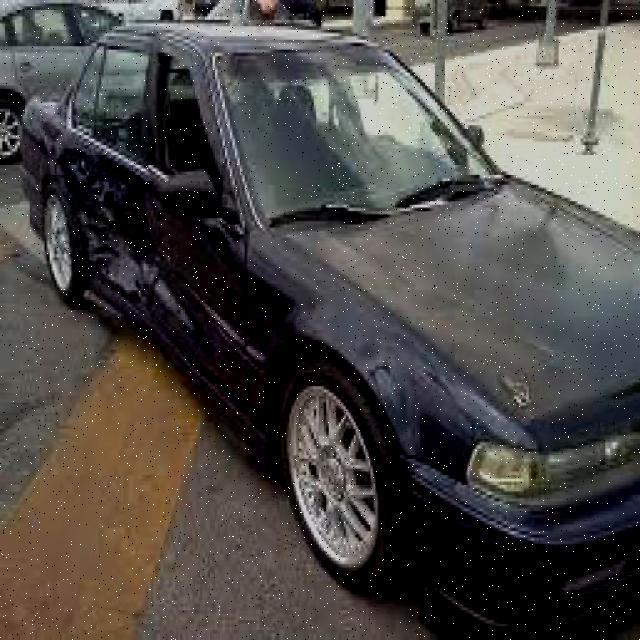car damage: (51, 136, 205, 361)
